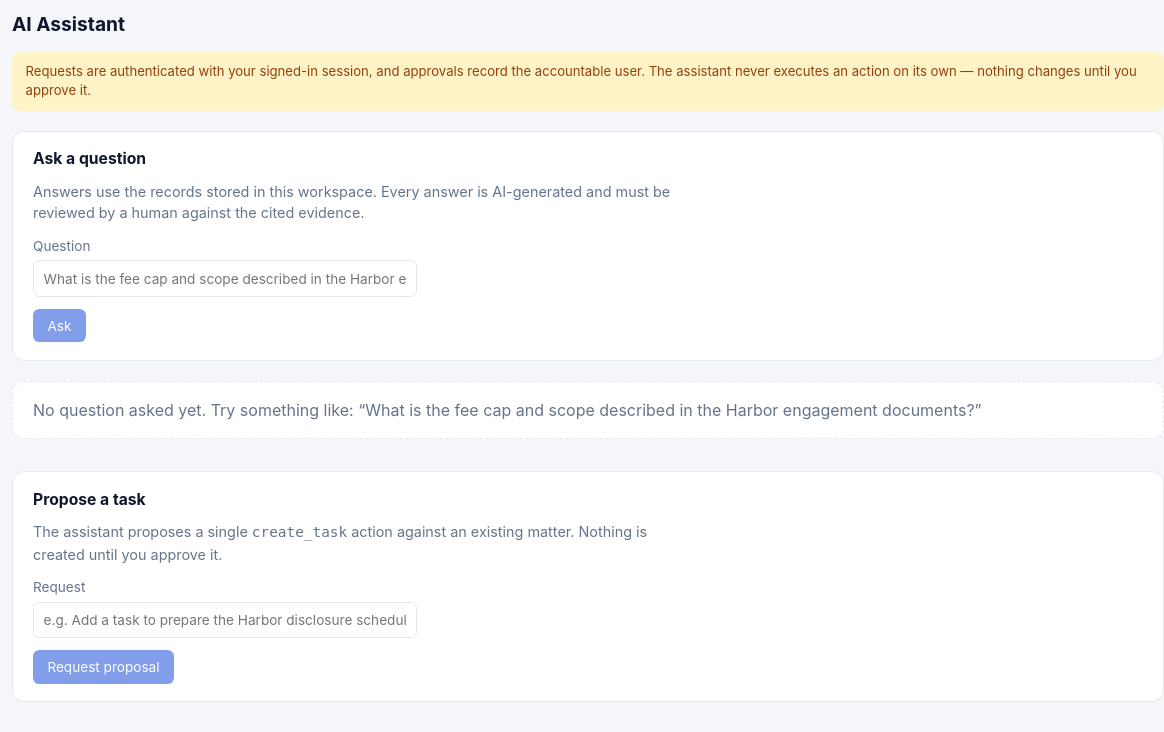
Scenario: AssistantPage › shows a clear error when the backend is unavailable
Step 1. Replace the text in the field labelled "Question" with "Is the backend up?" → (225, 279), box [33,260,417,297]
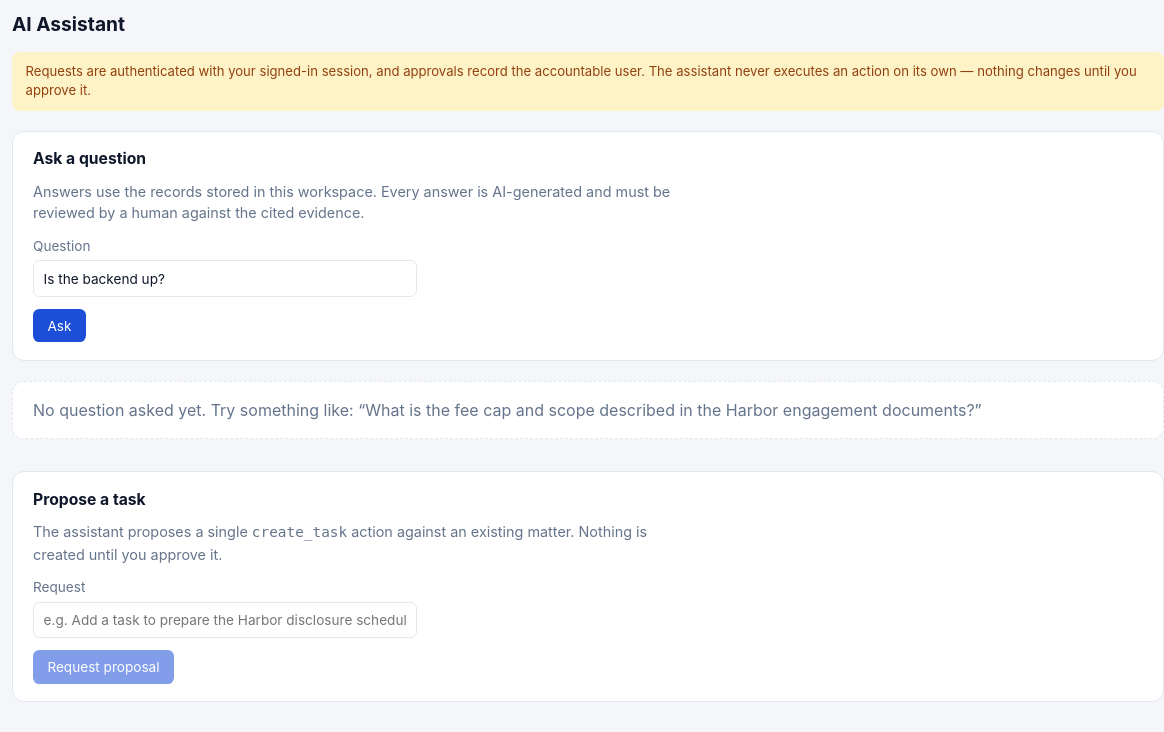
Step 2. Click the button "Ask" → (59, 326), box [33,309,86,342]
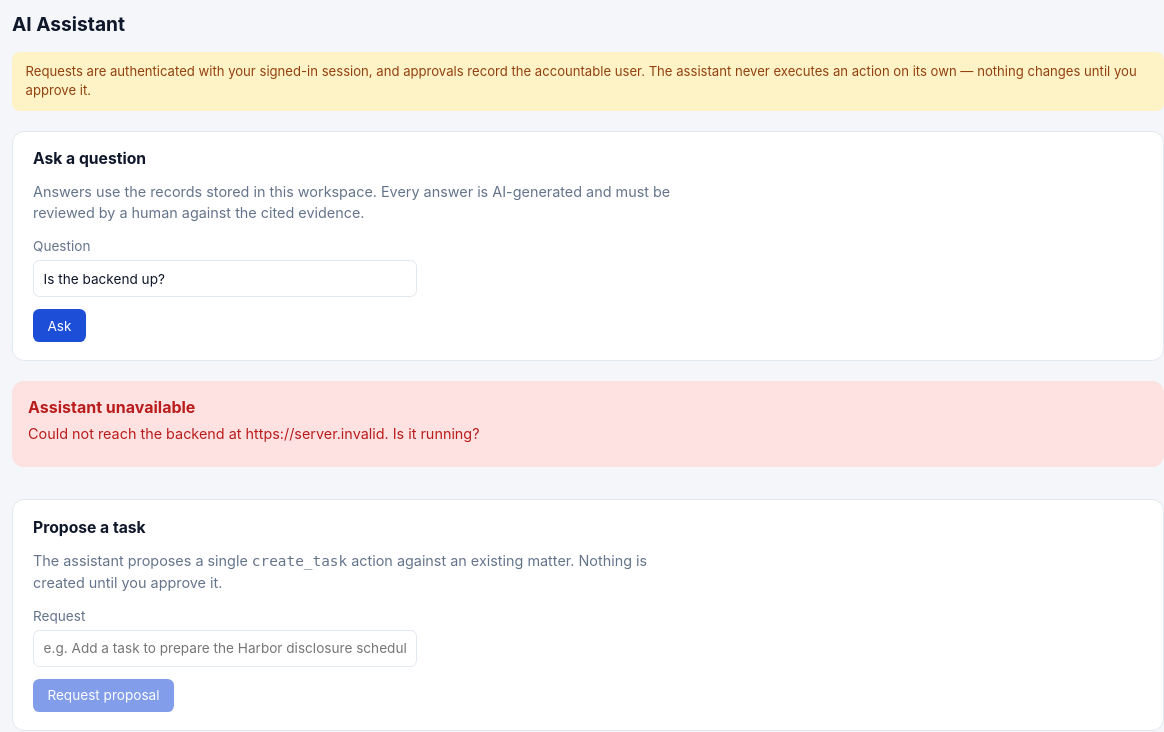
Expected: the text "Could not reach the backend" is shown, [28,424,480,442]
